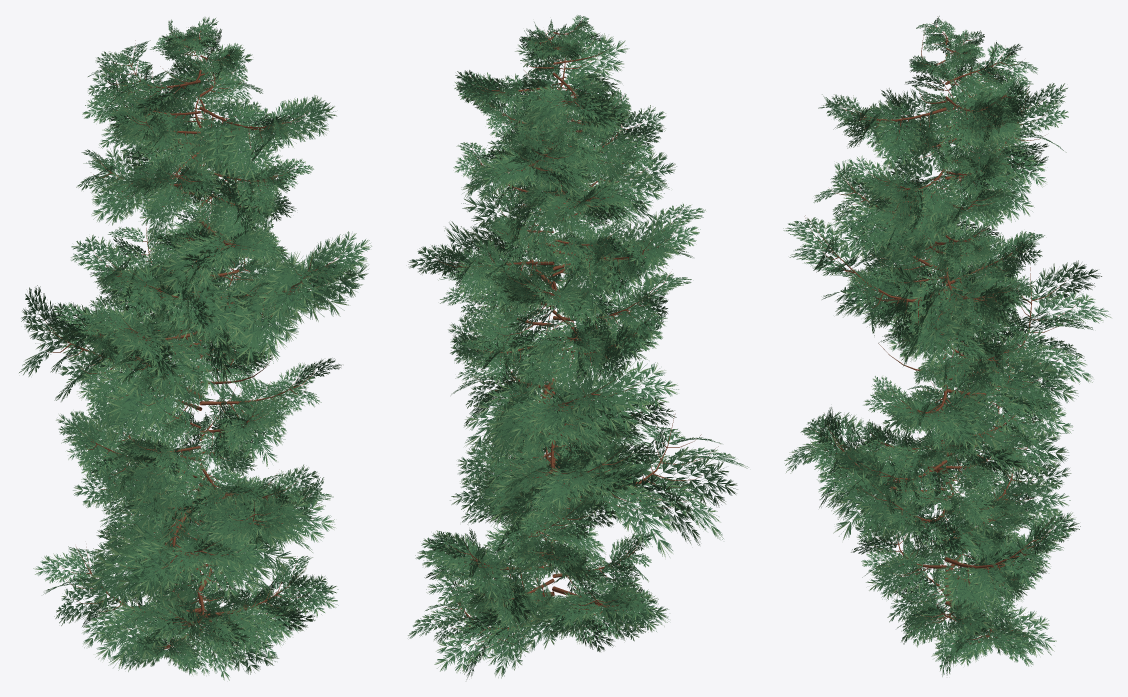
File: forest-pine-lod0.glb
The picture shows the model from 3 angles, left to right: view 1: azimuth 30°, elevation 25°; view 2: azimuth 150°, elevation 25°; view 3: azimuth 270°, elevation 25°; orthographic projection. The views are drawn at different scales.
Parts seen in each view (by area): view 1: redwood-crown; view 2: redwood-crown; view 3: redwood-crown.
Part boxes in pixels (x1,y1,x2,y2): redwood-crown: (19, 17, 371, 680); redwood-crown: (408, 15, 748, 679); redwood-crown: (783, 16, 1111, 676).
Size of the model in its own units: 17.16 by 37.52 by 18.07.
7 materials, 3 textured.
